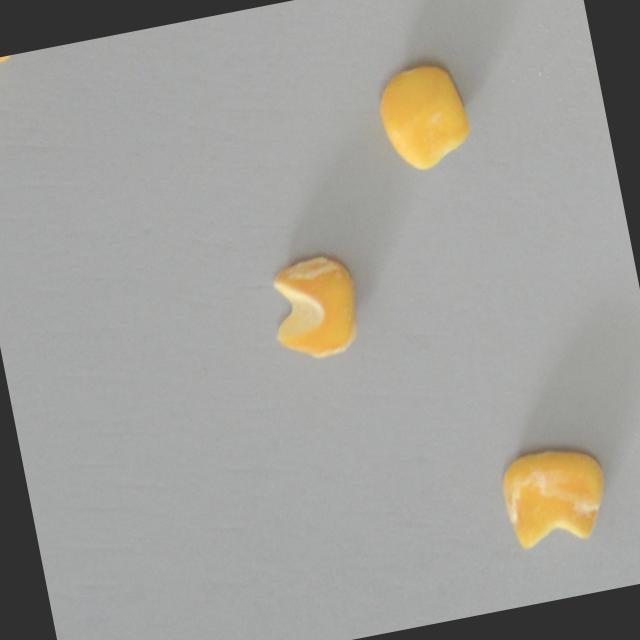no_canjicado: (371, 55, 475, 177)
pelicula: (495, 440, 614, 555), (262, 250, 366, 366)
